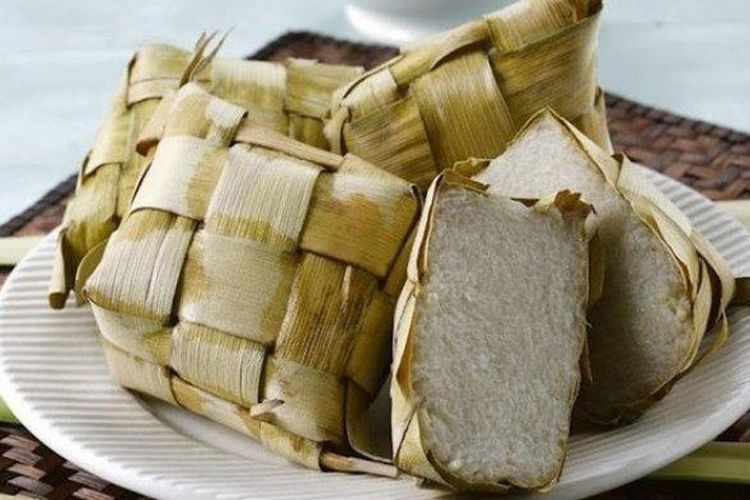ketupat: (81, 83, 408, 475)
